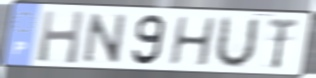9: (131, 13, 168, 67)
H: (35, 9, 86, 66), (167, 15, 218, 68)
N: (82, 11, 129, 65)
T: (266, 17, 301, 71)
U: (211, 14, 262, 70)
